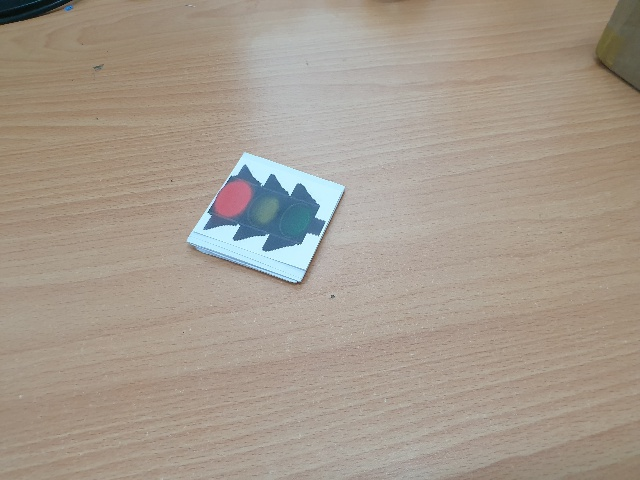Red: (207, 163, 325, 257)
